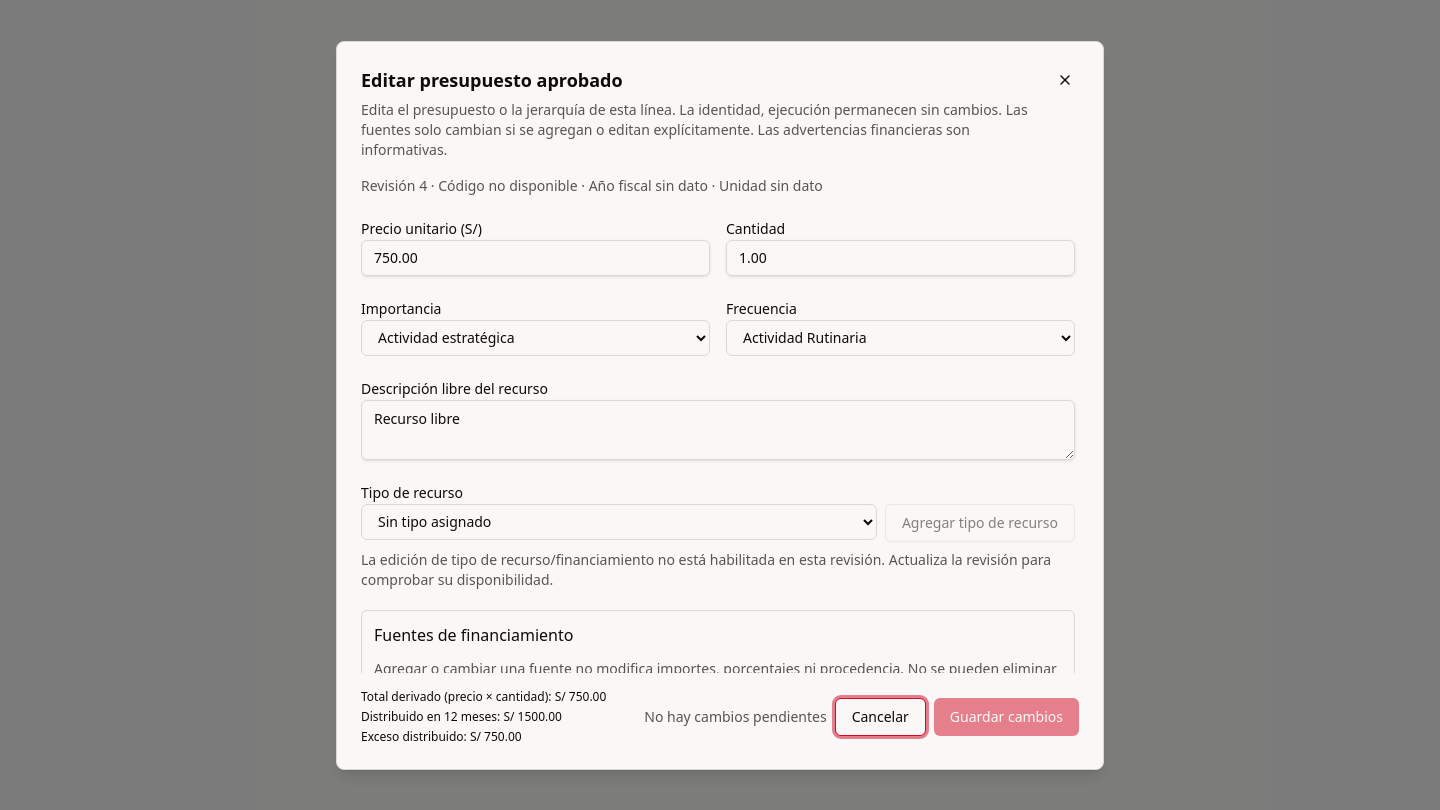
Test case: approved amendment dialog › funding UX keeps the exact live financial summary outside the scrolling body beside Save
Expected: the text "Revisión 4" is shown, left=361, top=176, right=823, bottom=194
Expected: the element named "Resumen de distribución financiera" shows "Total derivado (precio × cantidad): S/ 750.00", left=361, top=688, right=636, bottom=744
Replace the text in the field labelled "Cantidad" with "2". click: (900, 258)
box: left=726, top=240, right=1075, bottom=276
(page scrolled)
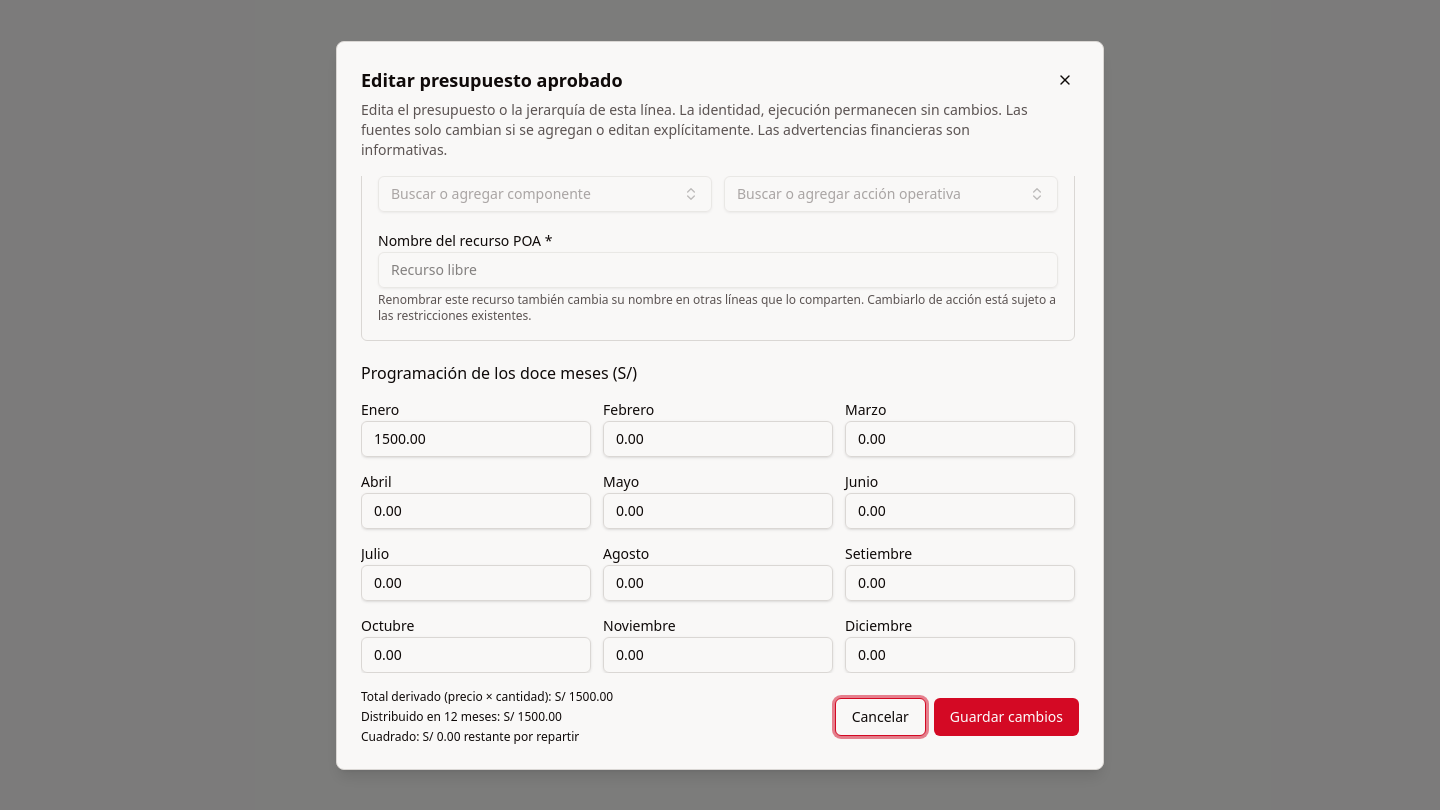
Result: the element named "Resumen de distribución financiera" shows "Total derivado (precio × cantidad): S/ 1500.00" at left=361, top=688, right=613, bottom=744
Result: the element named "Resumen de distribución financiera" shows "Cuadrado: S/ 0.00" at left=361, top=728, right=579, bottom=744
Replace the text in the field labelled "Febrero" with "0.01". click: (718, 438)
box: left=603, top=420, right=833, bottom=456
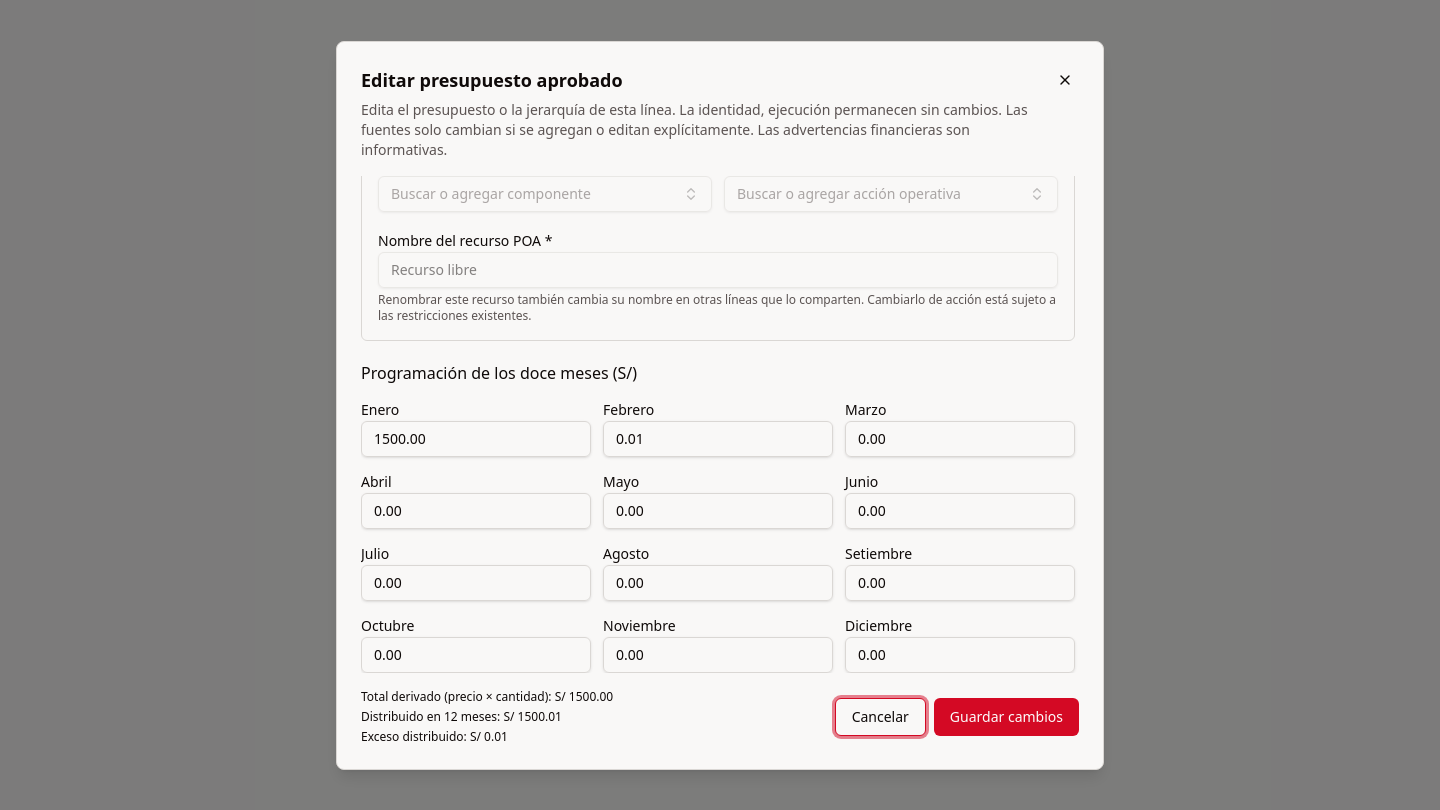
Result: the element named "Resumen de distribución financiera" shows "Exceso distribuido: S/ 0.01" at left=361, top=728, right=508, bottom=744
Replace the text in the field labelled "Enero" with "abc". click: (476, 438)
box: left=361, top=420, right=591, bottom=456
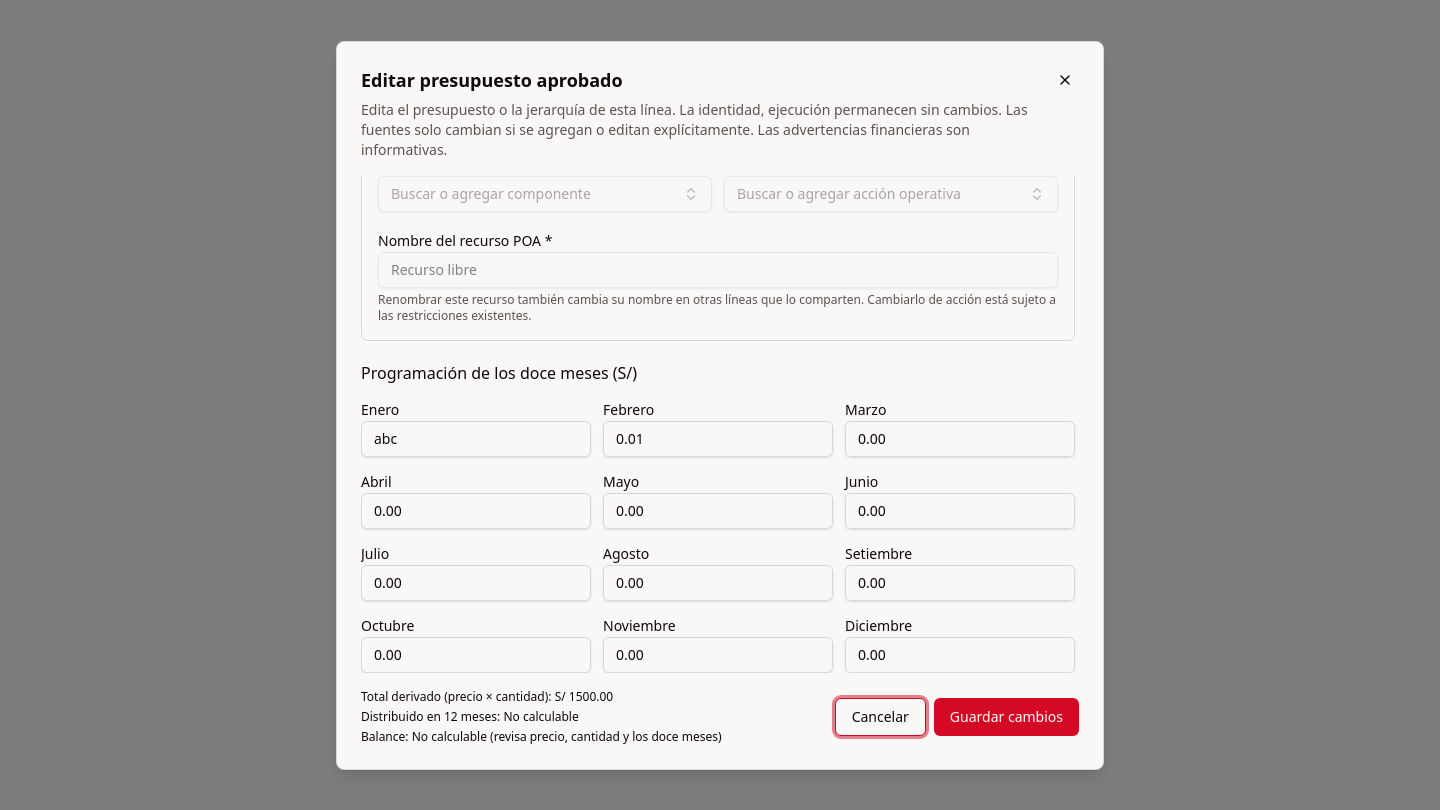
Result: the element named "Resumen de distribución financiera" does not show "Cuadrado" at left=361, top=688, right=722, bottom=744
Result: the element named "Resumen de distribución financiera" shows "No calculable" at left=503, top=708, right=579, bottom=724
